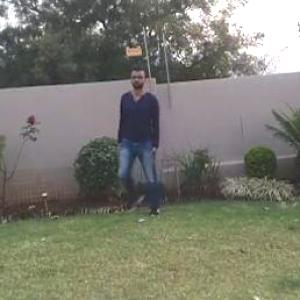follow: (117, 65, 170, 226)
